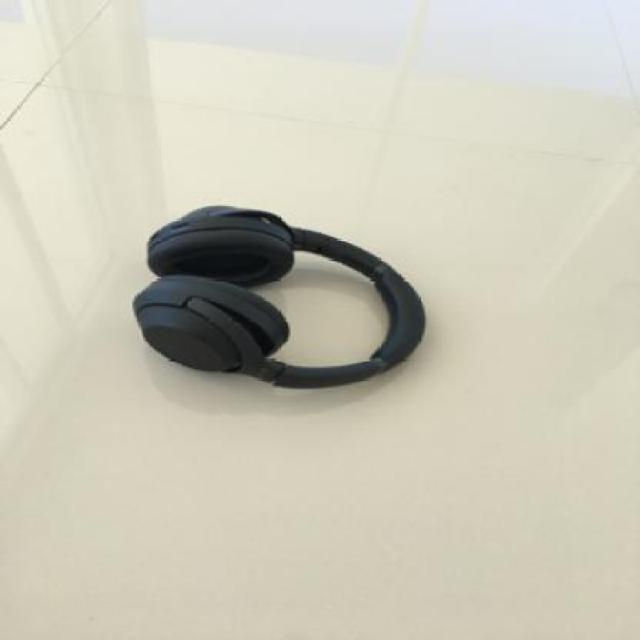earphone: (117, 118, 455, 427)
